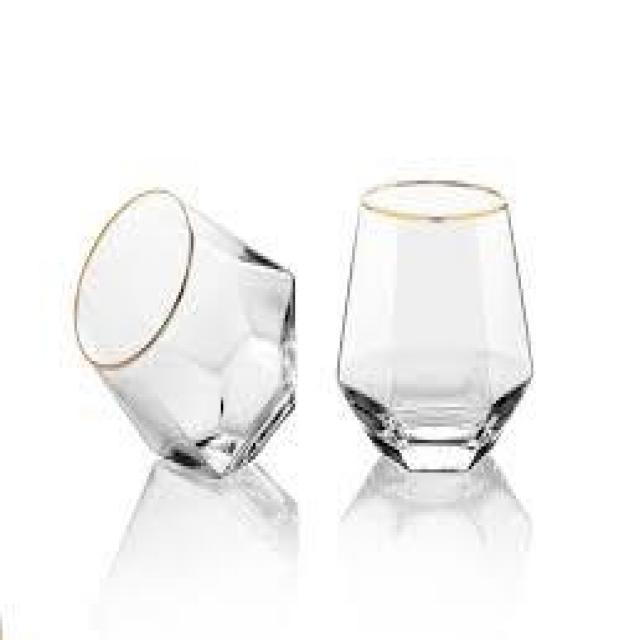non-organic waste: (71, 185, 296, 488), (333, 179, 534, 474)
